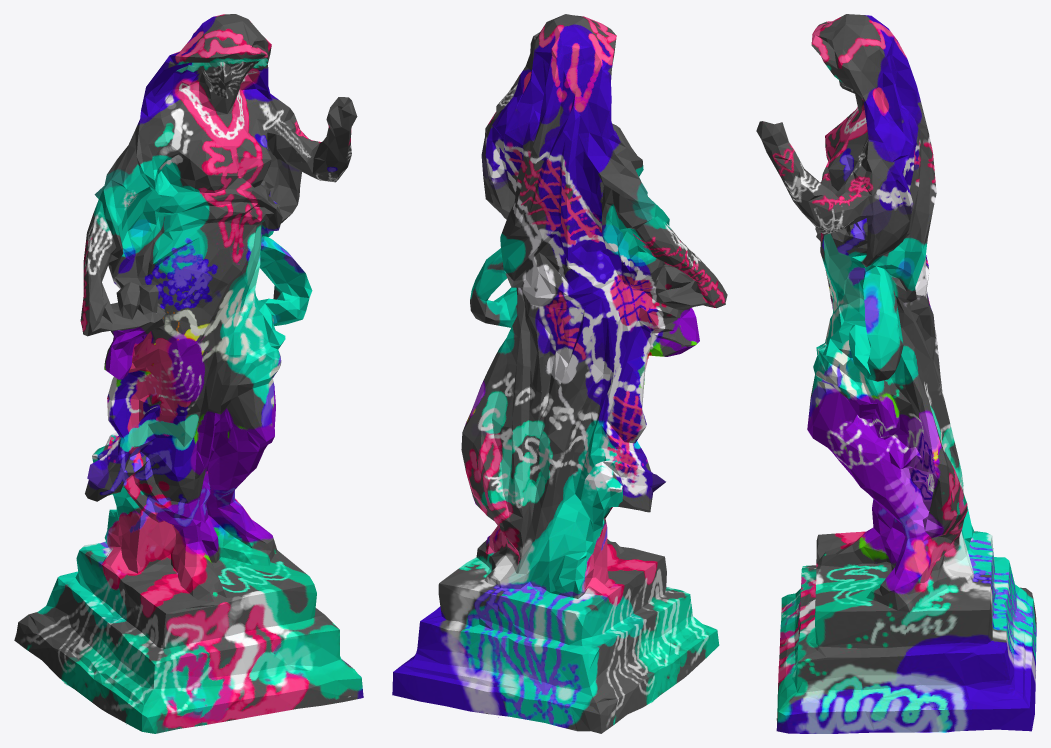
The model's file is podvod.glb.
3 views of the same model, side by side, from view 1: azimuth 30°, elevation 25°; view 2: azimuth 150°, elevation 25°; view 3: azimuth 270°, elevation 25° (orthographic). The views are drawn at different scales.
Visible parts, largest first — view 1: podvod; view 2: podvod; view 3: podvod.
Boxes of the visible parts, x1,y1,x2,y2 form: podvod: [14, 14, 363, 733]; podvod: [392, 14, 727, 733]; podvod: [756, 14, 1036, 733].
Bounding box in the file's own units: 1.1 × 2.8 × 1.06.
1 material, 1 textured.
